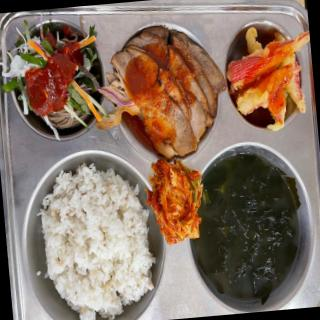Nasi: (35, 160, 154, 320)
